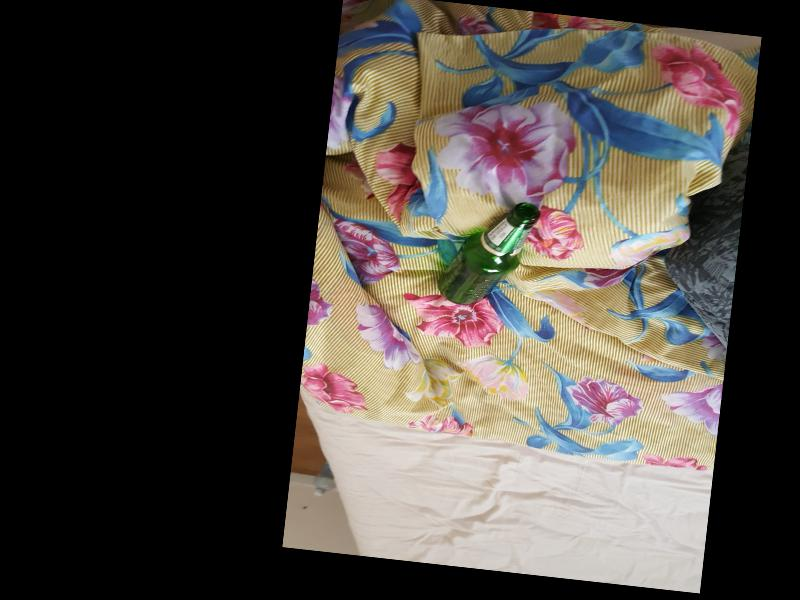Beer: (435, 192, 539, 311)
